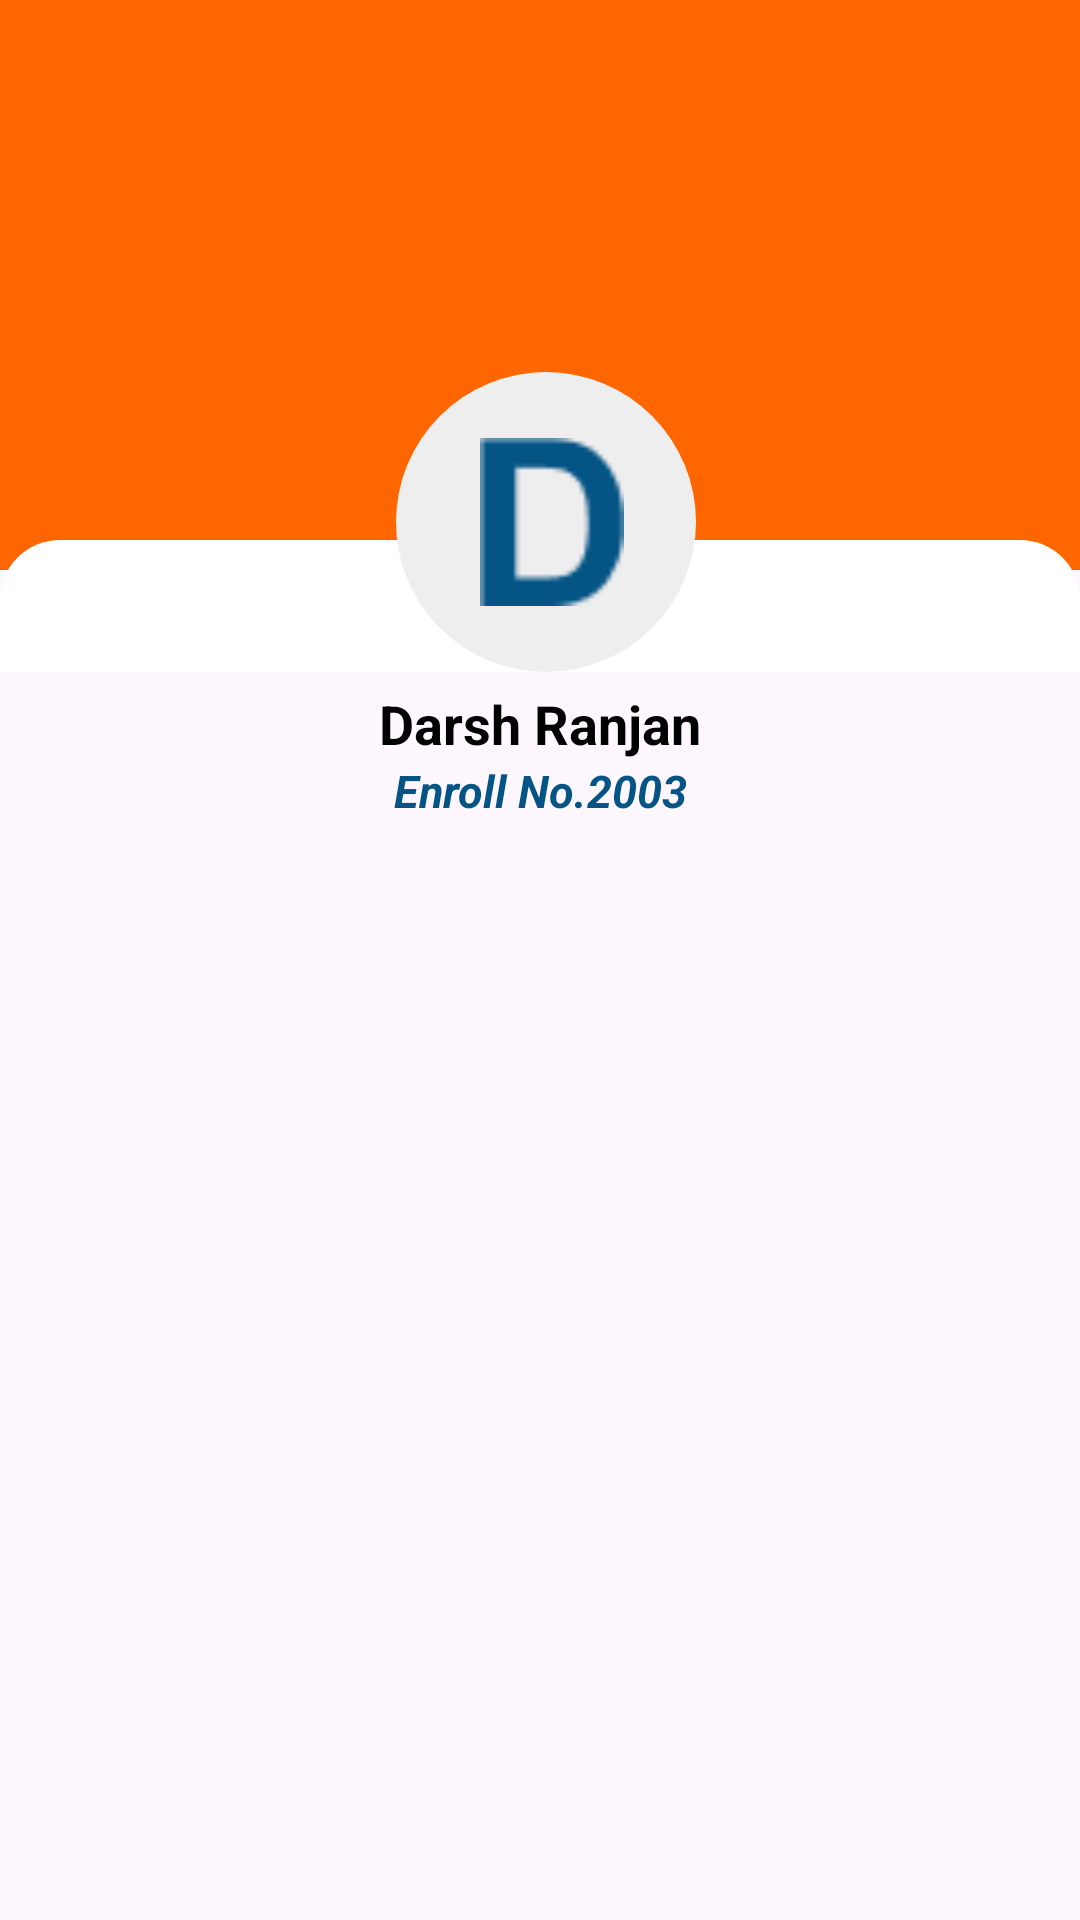

Screen size 1080w x 1920h. Icon name, then its center in pixels as [x,y]:
cricle shape: [546,522]
